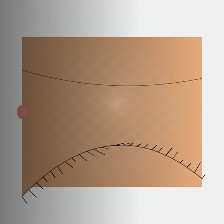pinguecula_lesion: (158, 103, 188, 127)
